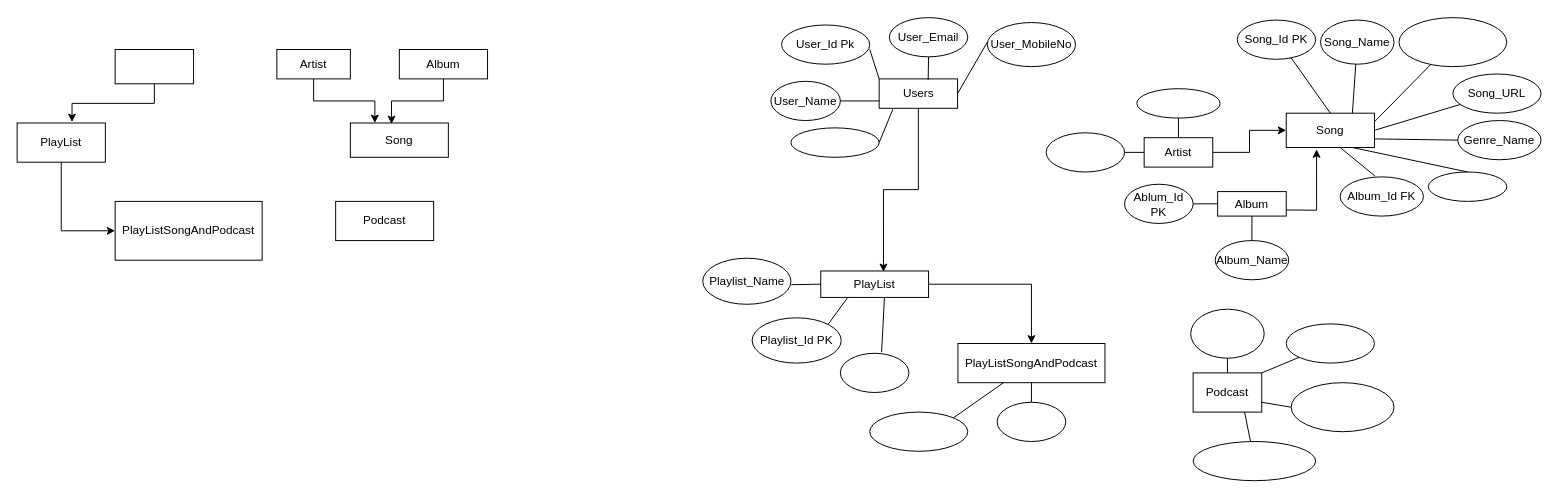
This 1558x498 diagram has some shape labels left out. The shapes that lost their labels are listed below. From the top down, each one's centre as x and y in pixels, then its label:
At point (1452, 42): "Duration_Of_Song".
At point (154, 66): "User".
At point (1178, 103): "Artist_Id PK".
At point (834, 142): "User_Password".
At point (1085, 152): "Artist_Name".
At point (1467, 186): "Artist_Id FK".
At point (1227, 333): "Podcast_Id PK".
At point (1329, 343): "Podcast_Name".
At point (874, 372): "User_Id FK".
At point (1031, 421): "Item_Id".
At point (1342, 407): "Celebrity_Name".
At point (918, 431): "Playlist_Id FK".
At point (1254, 461): "Podcast_Publish_Date".
